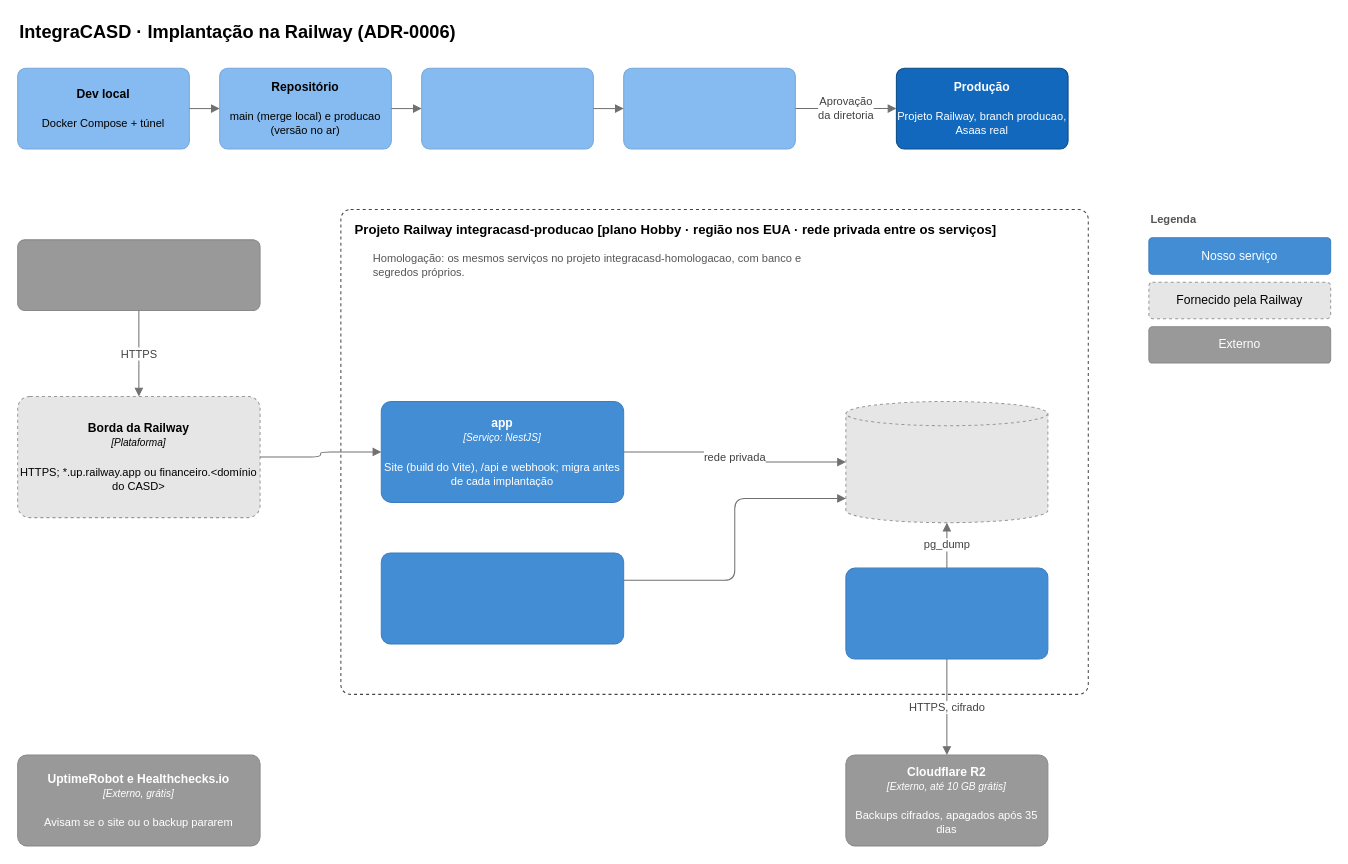
This 1348x864 diagram has some shape labels left out. Here are the shapes that lost their labels. From the top down, the box of each, then its label:
(421, 67, 593, 149): CI Lint, testes, build e contrato
(623, 67, 795, 149): Homologação Projeto Railway, branch main, Asaas sandbox
(17, 239, 260, 311): Usuários e webhook do Asaas [Internet]
(845, 400, 1048, 523): Postgres 18 [Banco da Railway, com volume] Dados, fila e trilha
(380, 552, 624, 644): worker [Serviço: NestJS + pg-boss] Fila e rotinas, sempre ligado, sem domínio
(845, 567, 1048, 659): backup [Cron da Railway, 3h] pg_dump + rclone crypt
